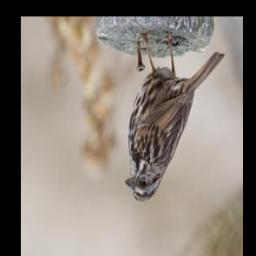Sparrow: (124, 32, 226, 207)
